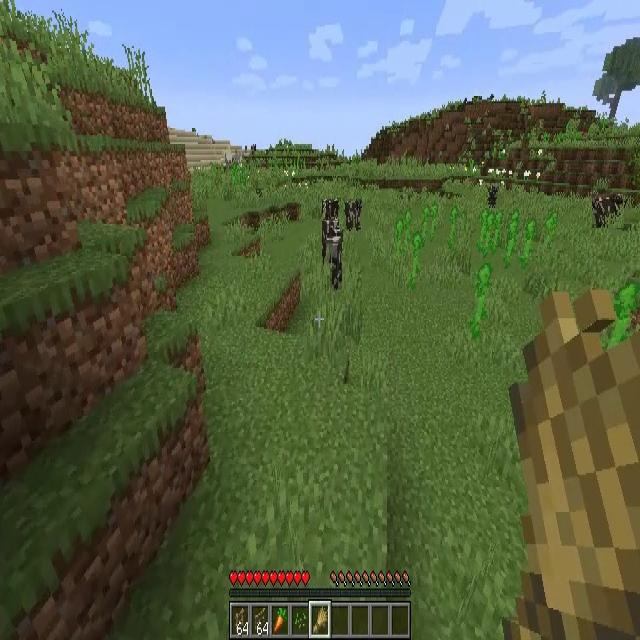cow: (322, 220, 341, 282), (592, 194, 624, 228), (345, 199, 362, 230), (323, 200, 338, 220)
